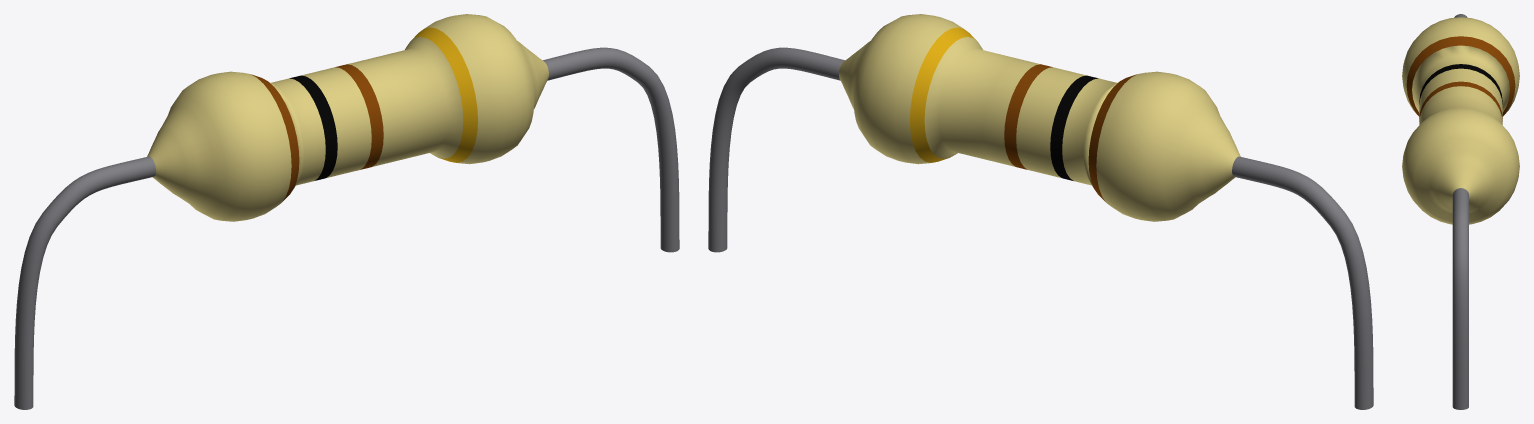
Rendered from Resistencia 100 ohm.fbx.
3 views of the same model, side by side, from view 1: azimuth 30°, elevation 25°; view 2: azimuth 150°, elevation 25°; view 3: azimuth 270°, elevation 25° (orthographic). The views are drawn at different scales.
Parts seen in each view (by area): view 1: Resistor.006, Patas.005, Tolerancia.006, 2Cifra.006, 3Cifra.006, 1Cifra.006; view 2: Resistor.006, Patas.005, Tolerancia.006, 3Cifra.006, 2Cifra.006, 1Cifra.006; view 3: Resistor.006, Patas.005, 1Cifra.006, 3Cifra.006, 2Cifra.006.
Part boxes in pixels (<box>): Resistor.006: <box>147,14,548,221</box>; Patas.005: <box>14,47,679,409</box>; Tolerancia.006: <box>411,27,477,162</box>; 2Cifra.006: <box>289,75,337,180</box>; 3Cifra.006: <box>335,64,383,169</box>; 1Cifra.006: <box>251,74,299,201</box>; Resistor.006: <box>839,14,1240,221</box>; Patas.005: <box>708,47,1373,409</box>; Tolerancia.006: <box>910,27,976,162</box>; 3Cifra.006: <box>1004,64,1052,169</box>; 2Cifra.006: <box>1050,75,1098,180</box>; 1Cifra.006: <box>1088,74,1136,201</box>; Resistor.006: <box>1402,17,1519,224</box>; Patas.005: <box>1452,14,1468,409</box>; 1Cifra.006: <box>1406,36,1515,116</box>; 3Cifra.006: <box>1419,81,1502,121</box>; 2Cifra.006: <box>1419,64,1502,104</box>.
Size of the model in its own units: 139 by 55.36 by 27.27.
